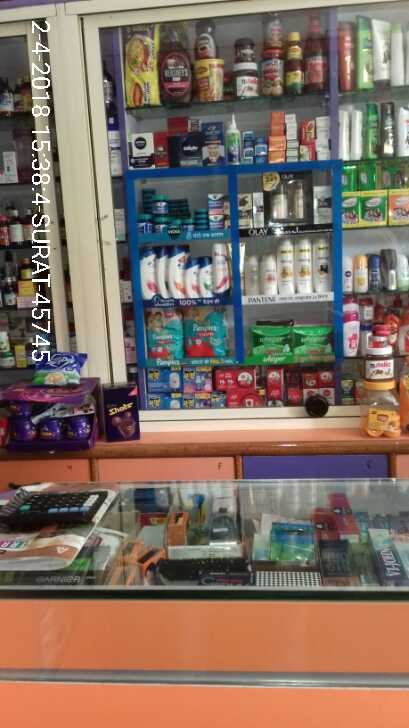vicks: (209, 193, 229, 214), (209, 214, 229, 231), (137, 215, 154, 235), (170, 200, 187, 213), (154, 195, 165, 213), (157, 218, 169, 233), (142, 189, 151, 208), (174, 219, 184, 233), (184, 219, 192, 232), (193, 214, 207, 220), (193, 209, 207, 214), (195, 224, 208, 229), (195, 220, 207, 224)
